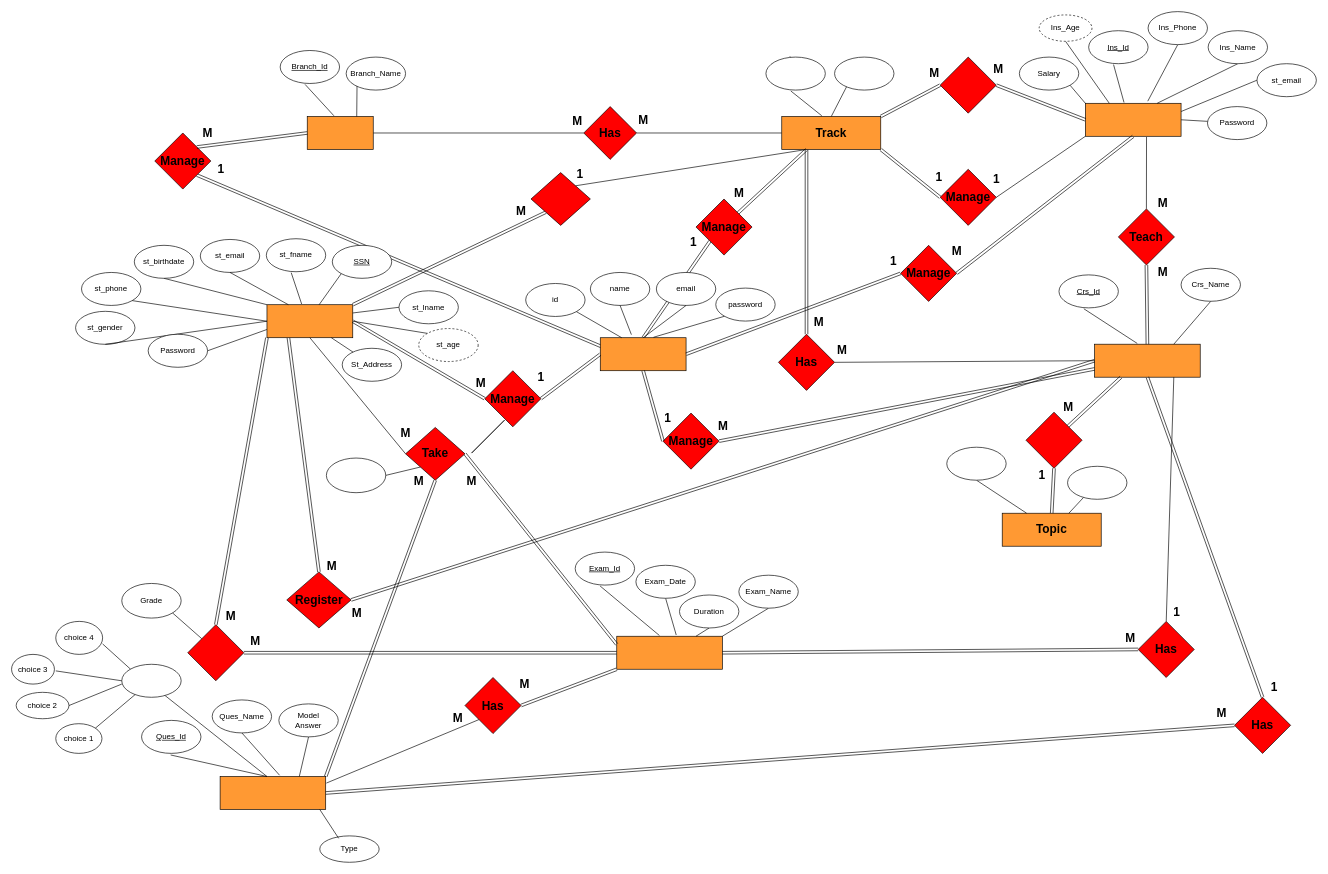
Some shapes in this 1328 by 874 pixel diagram are drawn without their labels. Here are the shapes that lost their labels. From the top down, the box of each, then its label:
(765, 56, 825, 90): Track_Id
(834, 56, 894, 90): Track_Name
(940, 56, 996, 113): Assgin
(307, 116, 373, 149): Branch
(1085, 103, 1181, 136): Instructor
(530, 172, 590, 225): Contain
(266, 304, 353, 338): Student
(600, 337, 686, 371): Admin
(1094, 344, 1200, 377): Course
(1025, 412, 1082, 468): Include
(326, 457, 386, 493): Answer
(946, 447, 1006, 480): Topic_Id
(1067, 466, 1127, 499): Topic_Name
(187, 624, 244, 681): Attend
(616, 636, 722, 669): Exam
(121, 664, 181, 697): choices
(219, 776, 326, 809): Questions
